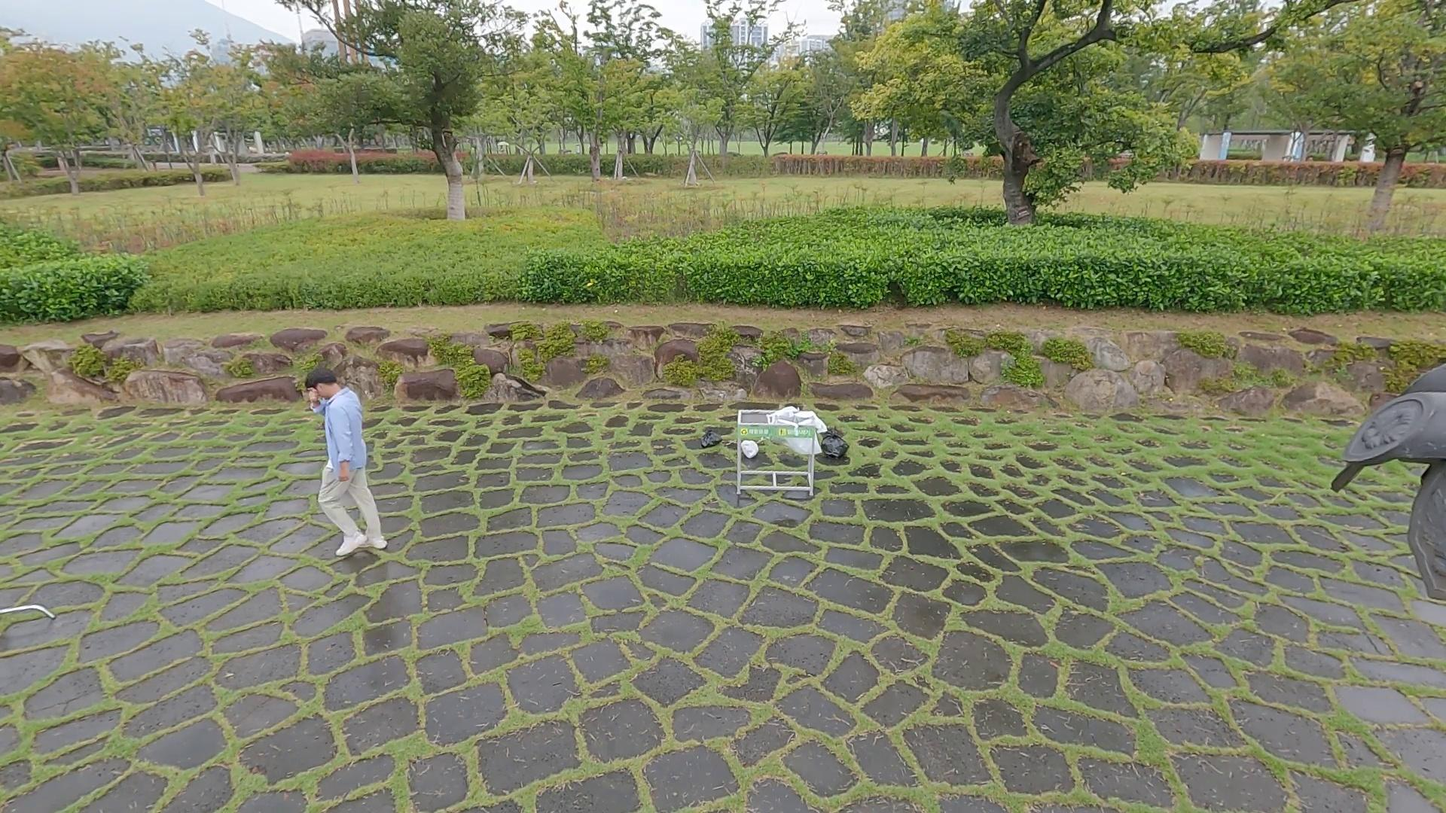person: (302, 365, 393, 560)
trash: (820, 429, 849, 461), (700, 430, 723, 450), (741, 440, 760, 459)
